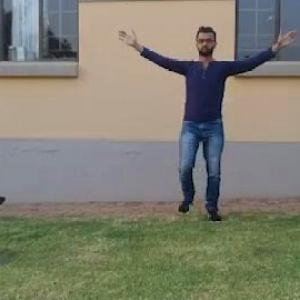takeoff: (116, 20, 294, 222)
